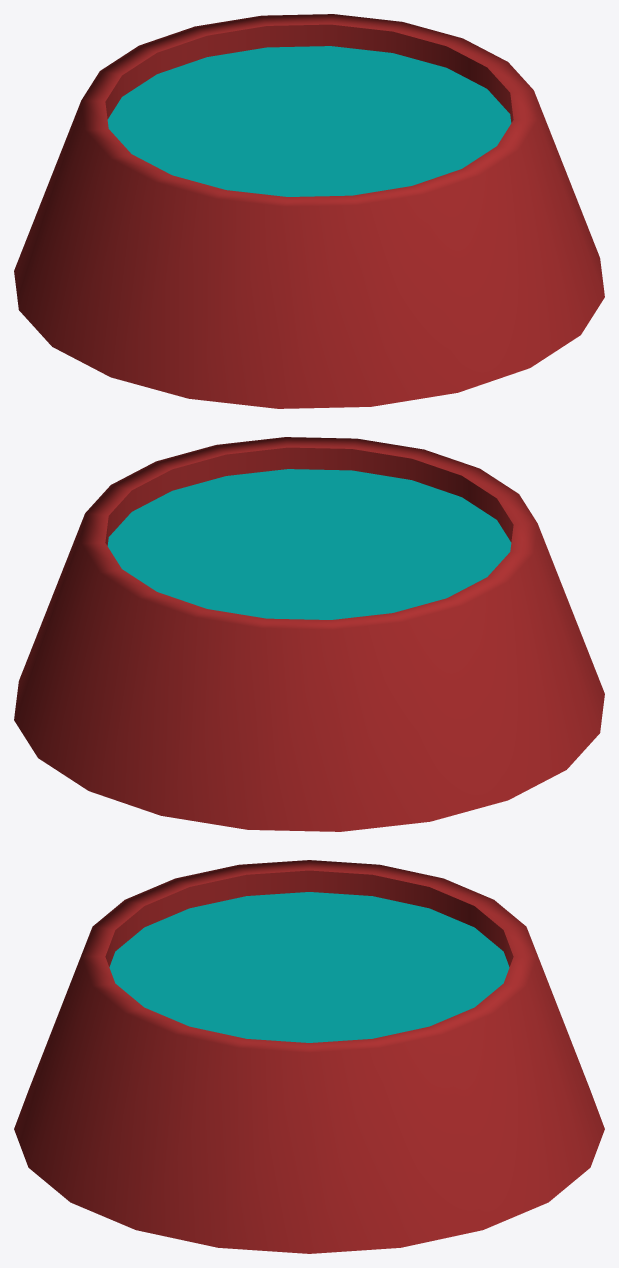
Rendered from dog_bowl.fbx.
3 views of the same model, one above another, from view 1: azimuth 30°, elevation 25°; view 2: azimuth 150°, elevation 25°; view 3: azimuth 270°, elevation 25° (orthographic).
Parts seen in each view (by area): view 1: pCylinder1; view 2: pCylinder1; view 3: pCylinder1.
Boxes of the visible parts, x1=… form: pCylinder1: x1=14, y1=14, x2=604, y2=408; pCylinder1: x1=14, y1=437, x2=604, y2=831; pCylinder1: x1=14, y1=860, x2=604, y2=1253.
Bounding box in the file's own units: 6.84 × 2.21 × 6.84.
